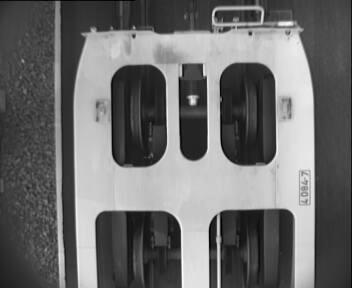Copy of Copy of wagon_scan: (102, 57, 288, 176)
